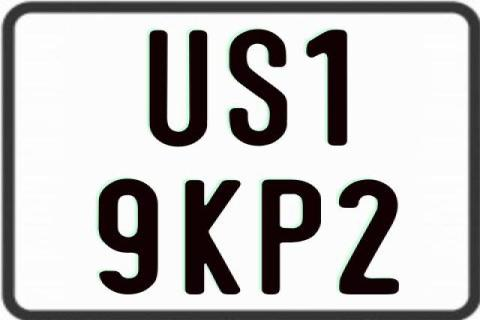0: (339, 180, 405, 296), (95, 176, 157, 294), (306, 30, 350, 148)
K: (183, 178, 240, 294)
P: (262, 177, 327, 297)
S: (227, 28, 288, 146)
U: (146, 30, 208, 150)
